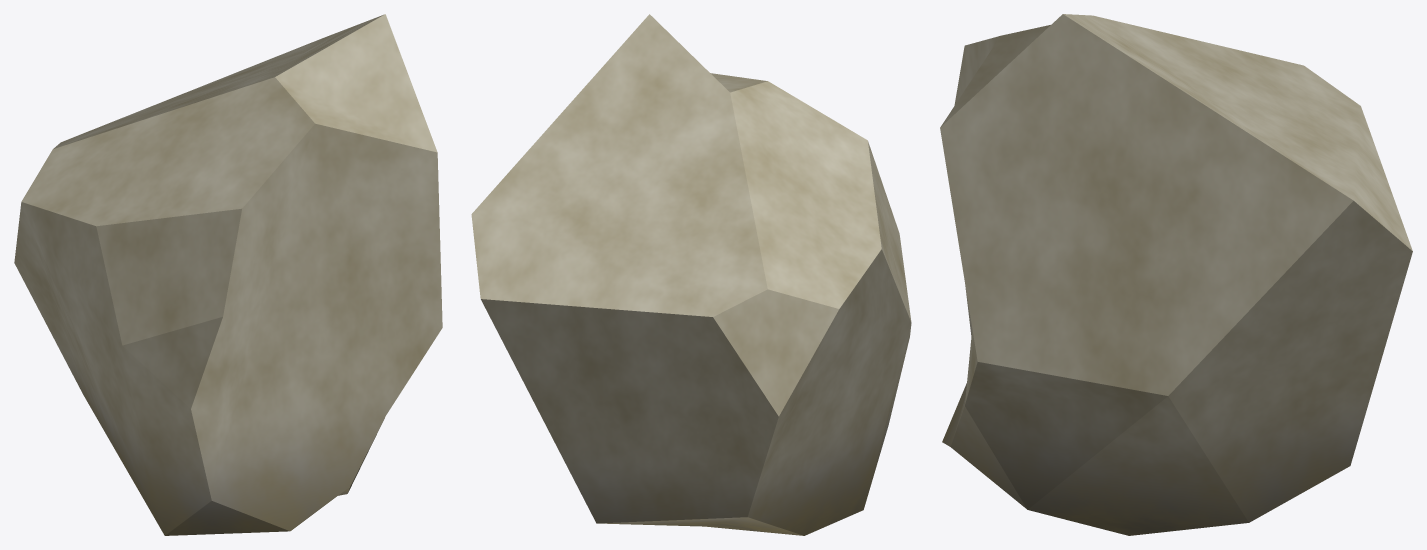
The model's file is rock_02.glb.
3 views of the same model, side by side, from view 1: azimuth 30°, elevation 25°; view 2: azimuth 150°, elevation 25°; view 3: azimuth 270°, elevation 25° (orthographic). The views are drawn at different scales.
Visible parts, largest first — view 1: Roundcube.001; view 2: Roundcube.001; view 3: Roundcube.001.
Part boxes in pixels (x1,y1,x2,y2): Roundcube.001: (14,14,442,535); Roundcube.001: (471,14,911,535); Roundcube.001: (940,14,1412,535).
Size of the model in its own units: 2.05 by 2.84 by 2.13.
Materials: 1 (1 with a texture image).
